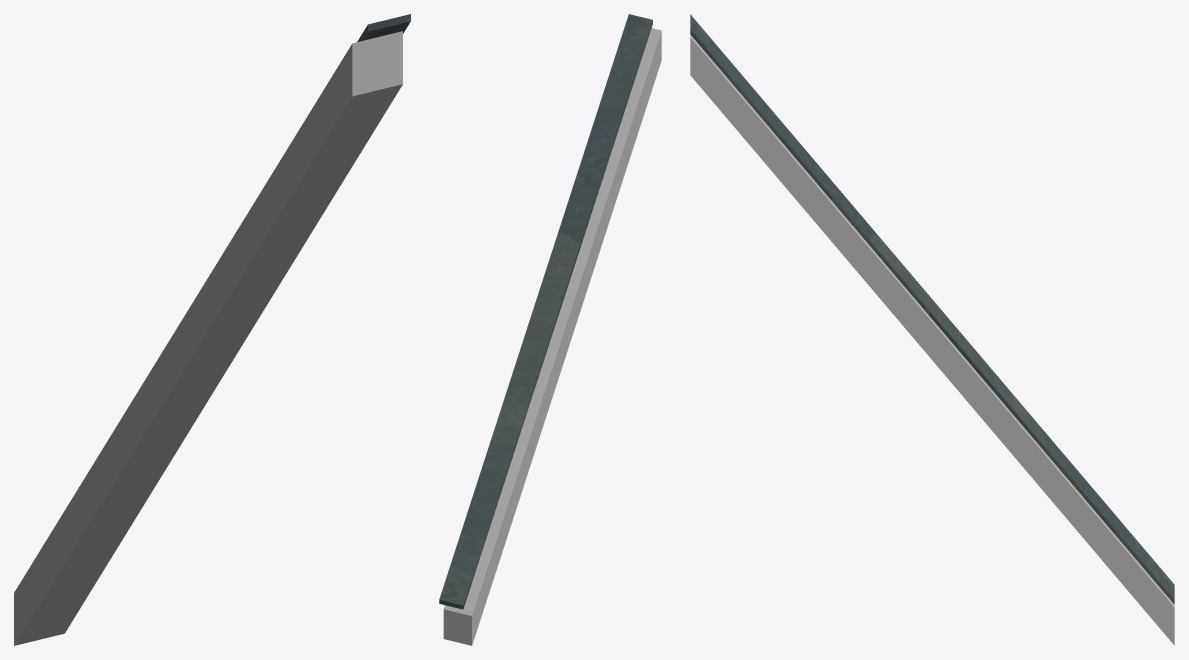
Rendered from CM_SlateRoofKit01_Verge2m_52p43.fbx.
3 views of the same model, side by side, from view 1: azimuth 30°, elevation 25°; view 2: azimuth 150°, elevation 25°; view 3: azimuth 270°, elevation 25° (orthographic). The views are drawn at different scales.
Parts seen in each view (by area): view 1: CM_SlateRoofKit01_Verge2m_52p43_Timber, CM_SlateRoofKit01_Verge2m_52p43_Slate; view 2: CM_SlateRoofKit01_Verge2m_52p43_Slate, CM_SlateRoofKit01_Verge2m_52p43_Timber; view 3: CM_SlateRoofKit01_Verge2m_52p43_Timber, CM_SlateRoofKit01_Verge2m_52p43_Slate.
Boxes of the visible parts, x1,y1,x2,y2 form: CM_SlateRoofKit01_Verge2m_52p43_Timber: (14,31,402,645); CM_SlateRoofKit01_Verge2m_52p43_Slate: (357,14,410,41); CM_SlateRoofKit01_Verge2m_52p43_Slate: (439,14,652,609); CM_SlateRoofKit01_Verge2m_52p43_Timber: (443,28,661,645); CM_SlateRoofKit01_Verge2m_52p43_Timber: (690,35,1174,645); CM_SlateRoofKit01_Verge2m_52p43_Slate: (690,14,1174,604).
Size of the model in its own units: 0.15 by 2.12 by 1.5.
